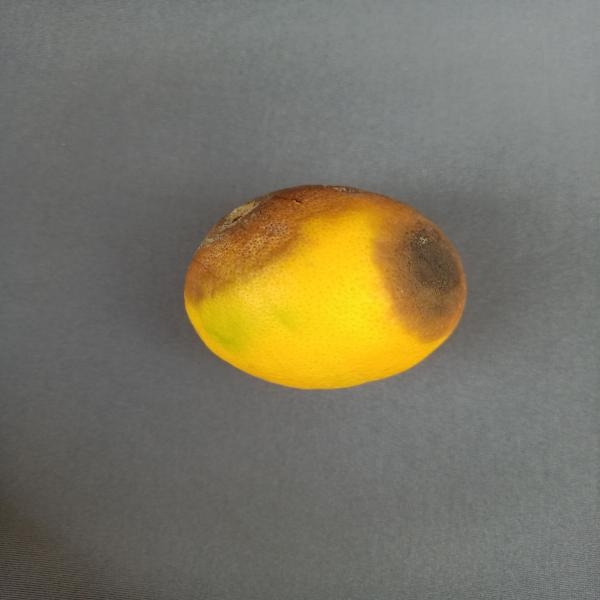Scab: (157, 172, 487, 399)
